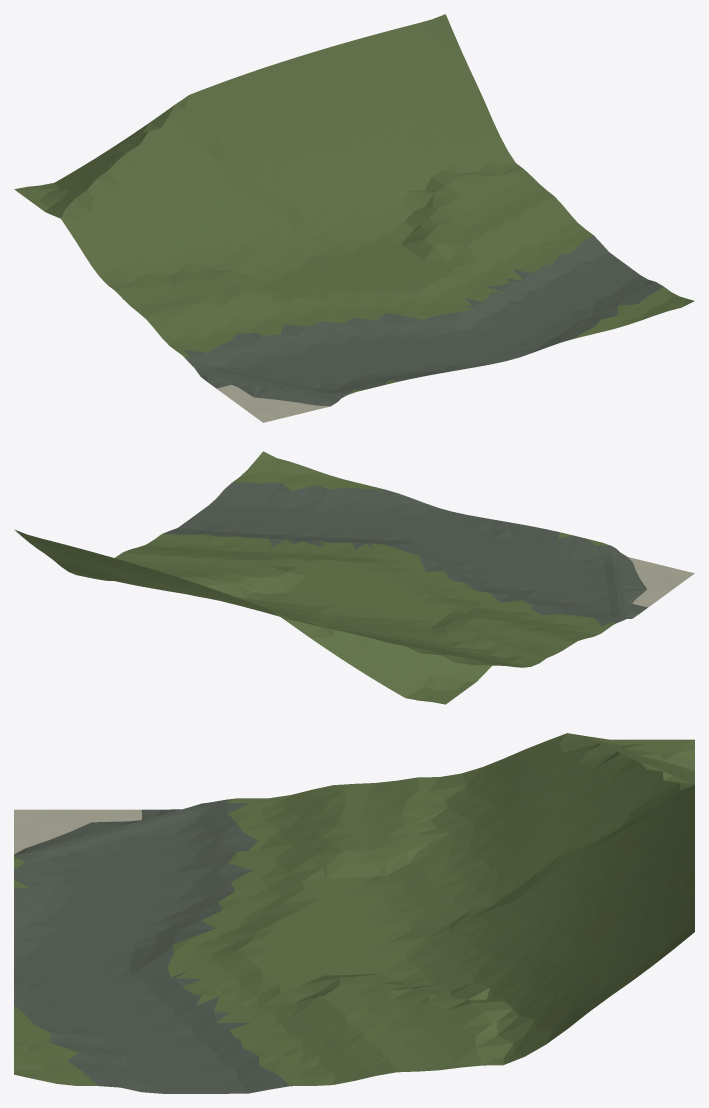
Rendered from Ground_-4_-5.glb.
3 renders of one model, top to bottom at view 1: azimuth 30°, elevation 25°; view 2: azimuth 150°, elevation 25°; view 3: azimuth 270°, elevation 25°, orthographic. The views are drawn at different scales.
Visible parts, largest first — view 1: Ground_-4_-5; view 2: Ground_-4_-5; view 3: Ground_-4_-5.
Boxes of the visible parts, x1,y1,x2,y2 form: Ground_-4_-5: (14, 14, 694, 422); Ground_-4_-5: (14, 451, 694, 704); Ground_-4_-5: (14, 733, 694, 1093).
Size of the model in its own units: 768 by 206 by 768.
